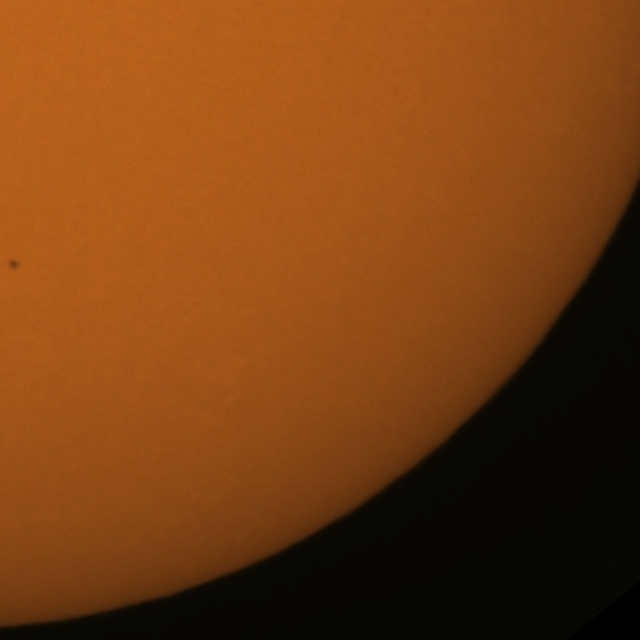sunspot: (6, 258, 21, 272)
